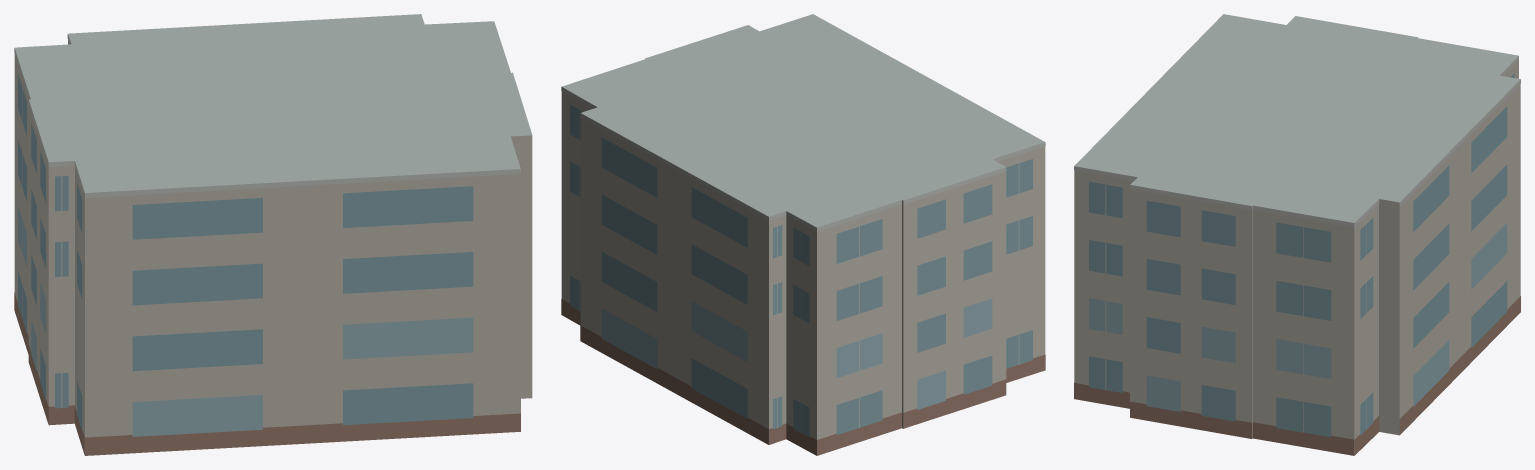
Rendered from survey-upis-32489779.glb.
The picture shows the model from 3 angles, left to right: view 1: azimuth 30°, elevation 25°; view 2: azimuth 150°, elevation 25°; view 3: azimuth 270°, elevation 25°; orthographic projection. The views are drawn at different scales.
Parts seen in each view (by area): view 1: survey-upis-32489779.tmp; view 2: survey-upis-32489779.tmp; view 3: survey-upis-32489779.tmp.
Boxes of the visible parts, <box> form: survey-upis-32489779.tmp: <box>14,14,532,455</box>; survey-upis-32489779.tmp: <box>561,14,1045,455</box>; survey-upis-32489779.tmp: <box>1074,14,1520,455</box>.
Bounding box in the file's own units: 25.41 × 13.2 × 22.95.
